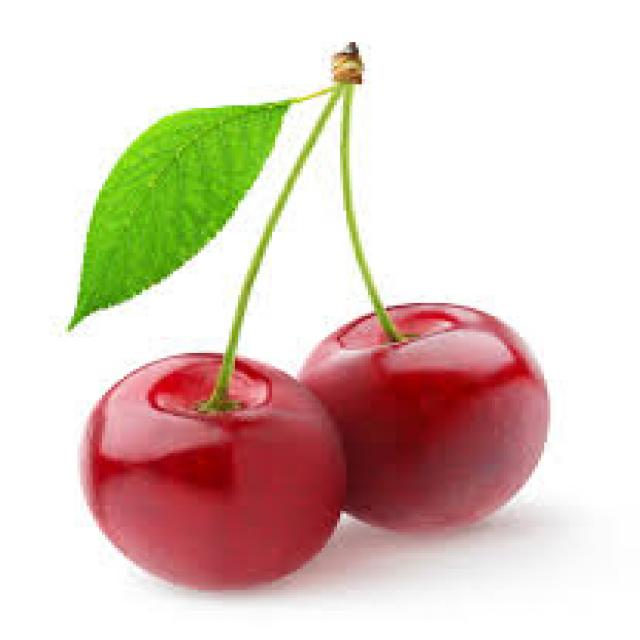organic waste: (77, 342, 343, 588), (303, 303, 547, 532), (62, 98, 290, 330)
